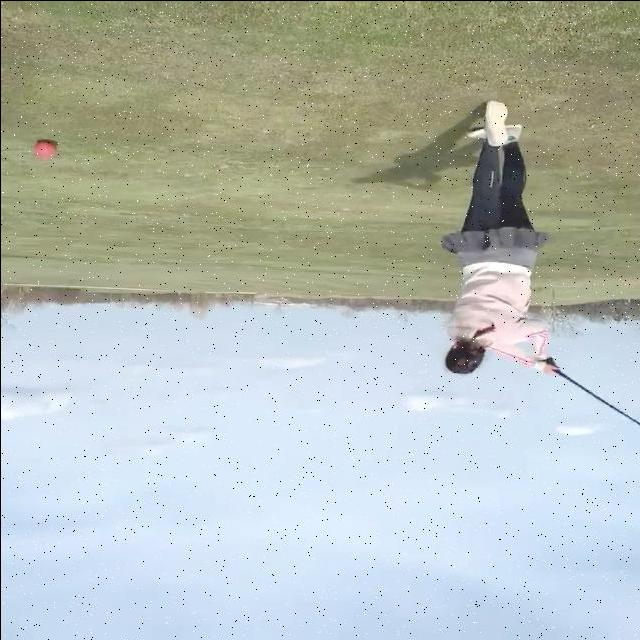golf club-handle: (548, 366, 640, 427)
